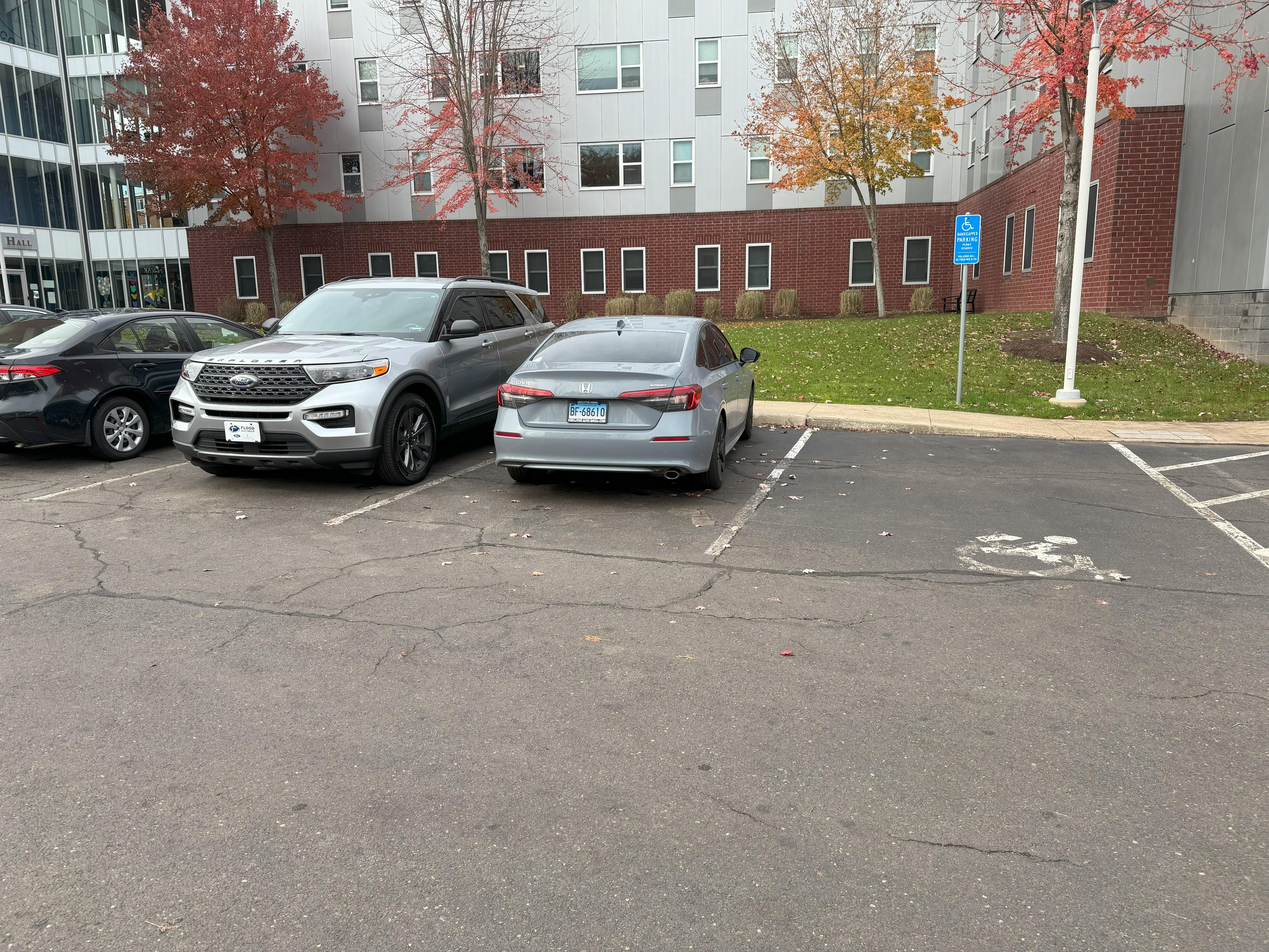empty: (807, 425, 1194, 595)
occupied: (167, 269, 514, 563), (491, 300, 773, 524), (5, 283, 176, 494)
